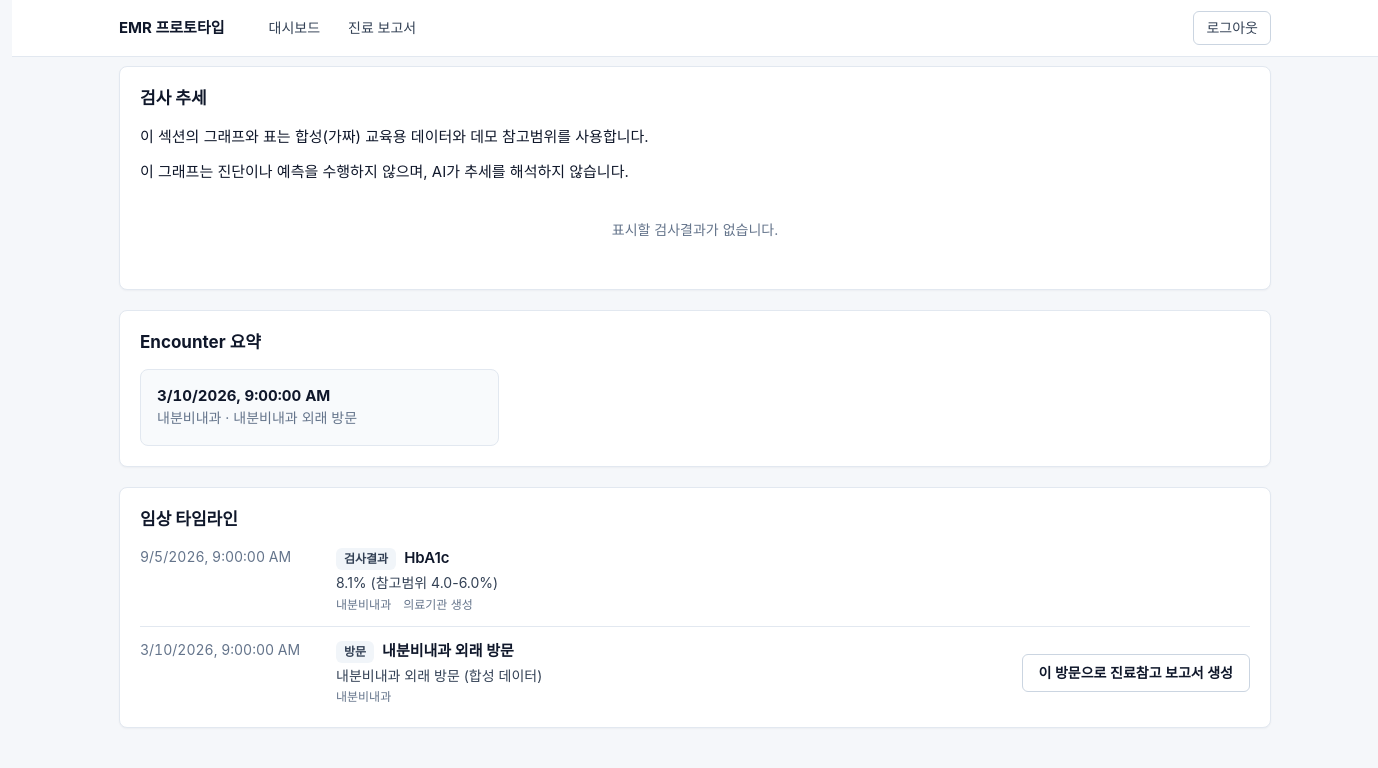
Test: PatientTimelinePage › follows the existing global 401 flow when report creation returns 401
The width and height of the screenshot is (1378, 768).
(page scrolled)
Click the button "이 방문으로 진료참고 보고서 생성" at (1136, 673), box [1022,654,1250,692]
(page scrolled)
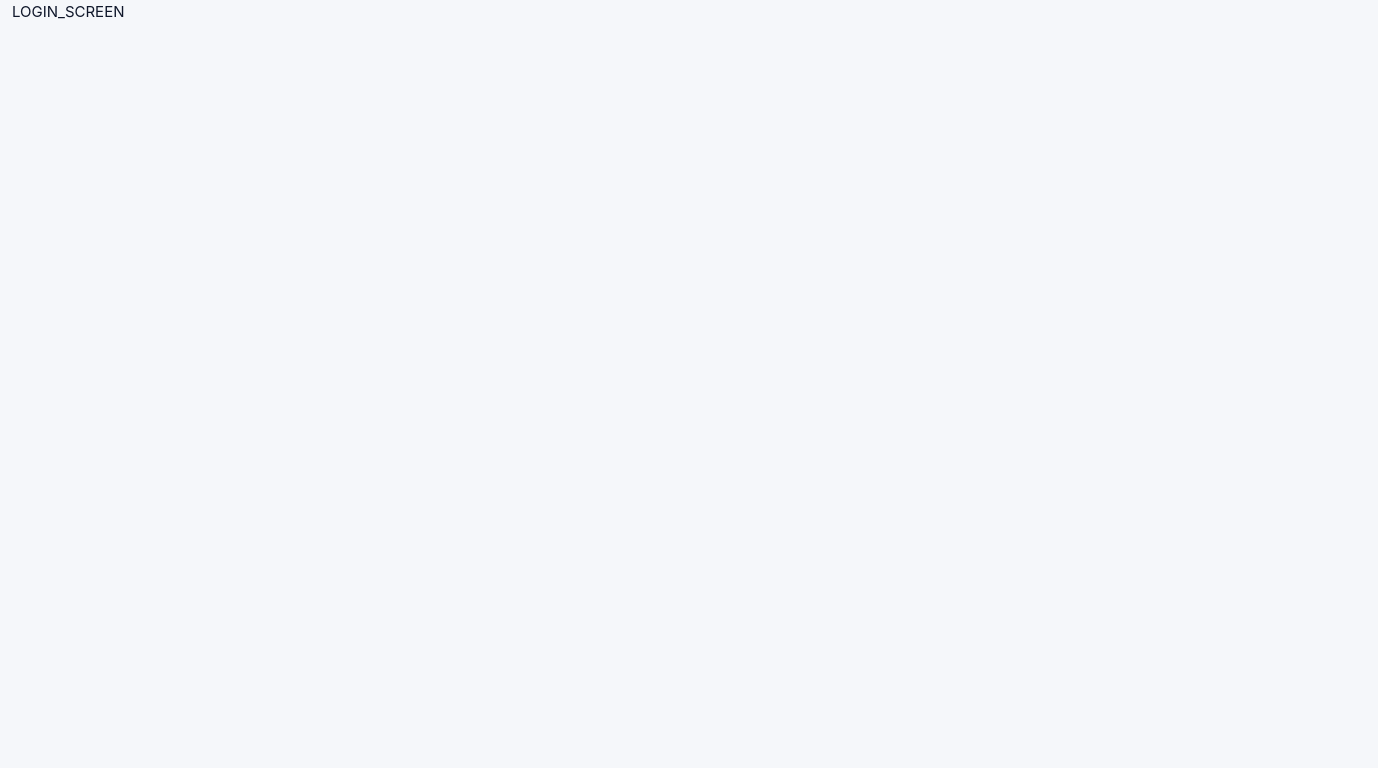
Result: the text "LOGIN_SCREEN" is shown at [12,2,124,21]
